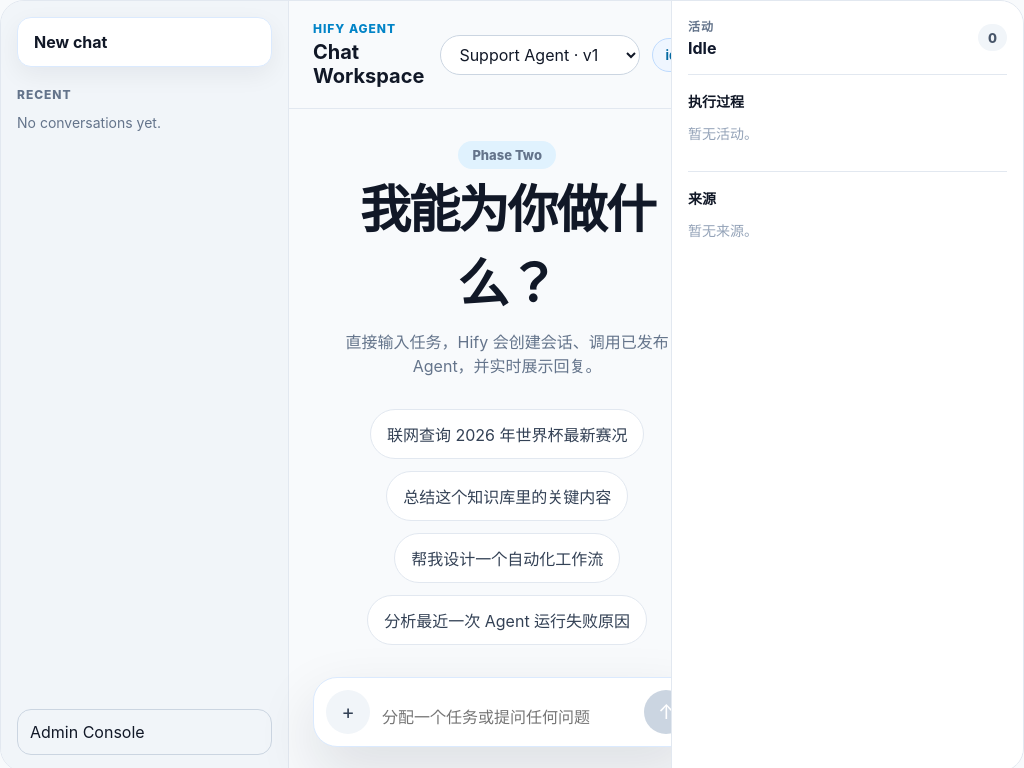
Test case: UserChatWorkspace › renders streamed activity and source references
Step 1. Type "Search Ceph releases" into the text box named "Message" → [507, 714], box [382,694,632,734]
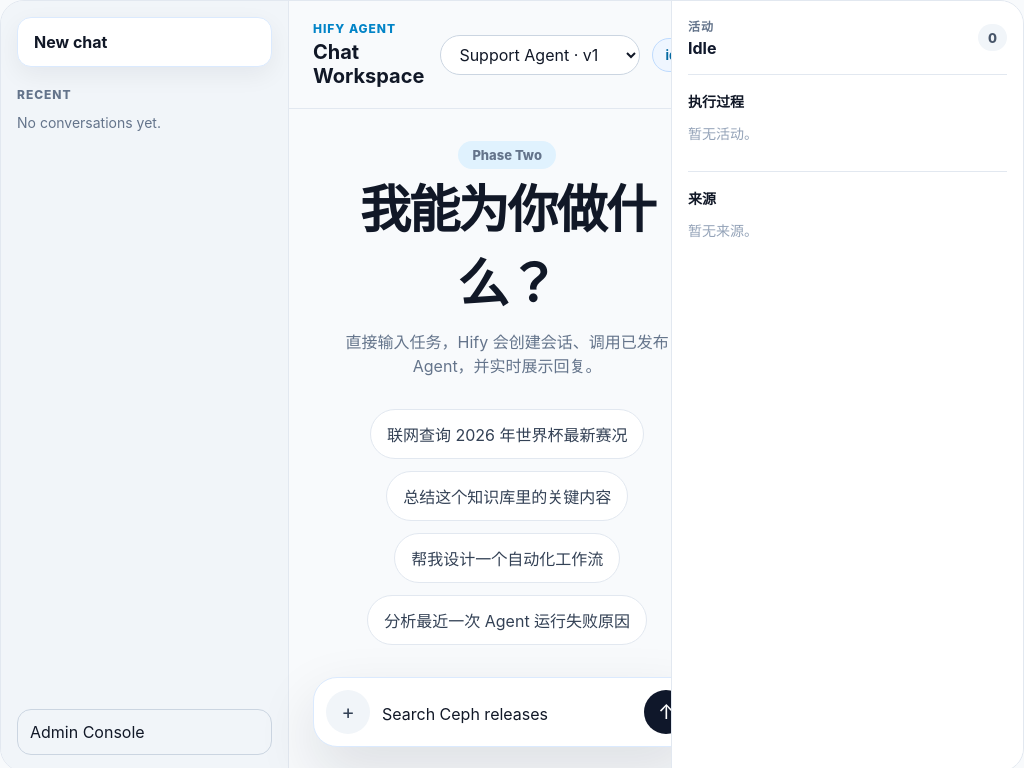
Step 2. Click the button "↑" → [666, 712], box [644,690,688,734]
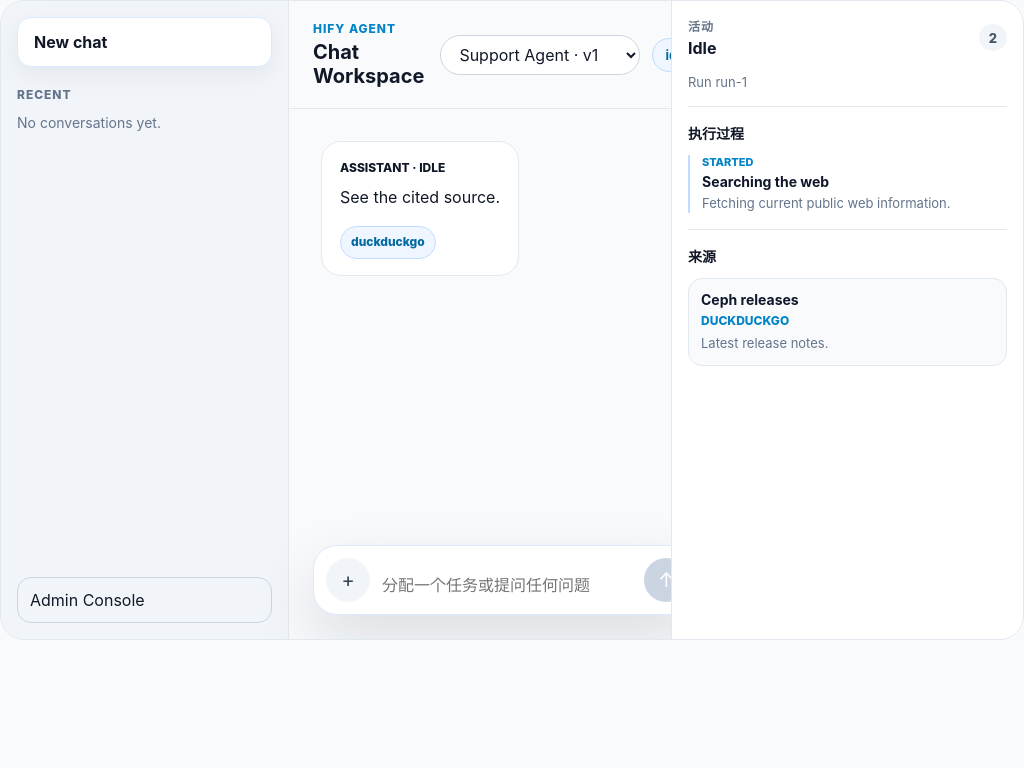
Check: the text "Searching the web" is shown, box [702,173,829,190]
Check: the text "Fetching current public web information." is shown, box [702,195,950,211]
Check: the text "See the cited source." is shown, box [340,184,500,212]
